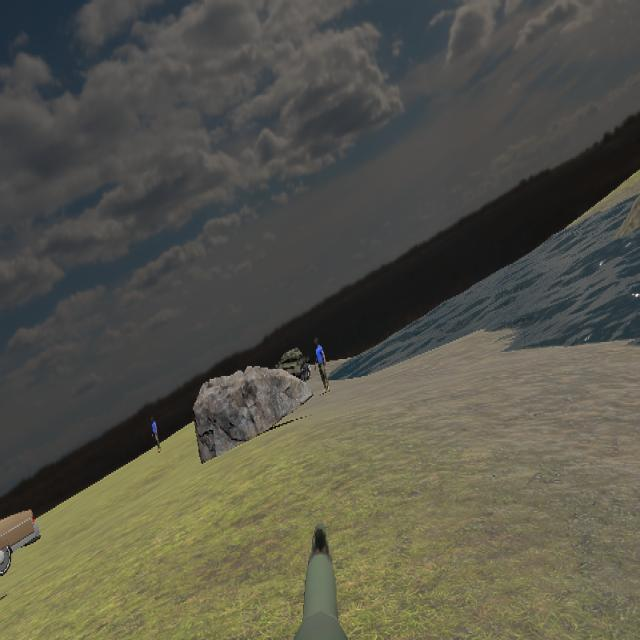Human: (313, 336, 331, 396)
car: (0, 505, 41, 590), (627, 268, 640, 305)
